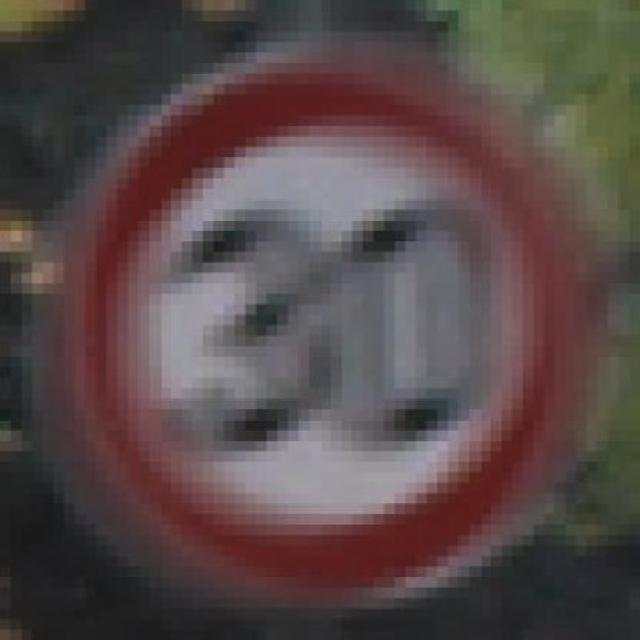Speed Limit 30 KMPh: (42, 32, 620, 630)
